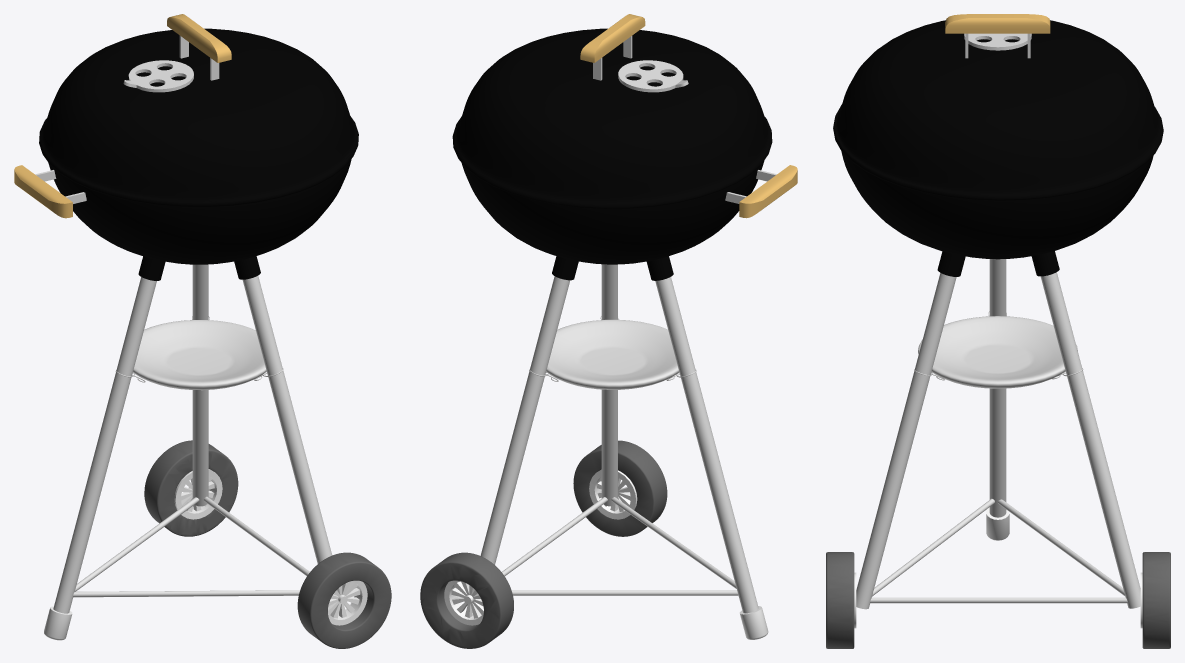
Rendered from charcoal_grill.glb.
The picture shows the model from 3 angles, left to right: view 1: azimuth 30°, elevation 25°; view 2: azimuth 150°, elevation 25°; view 3: azimuth 270°, elevation 25°; orthographic projection. The views are drawn at different scales.
Parts seen in each view (by area): view 1: grill_lid_bowl_grill_main_material_0, grill_side_handle2_grill_metal_material_0, grill_wheel1_grill_wheel_material_0, grill_ash_pan_grill_metal_material_0, grill_foot_cover_grill_plastic_material_0, grill_side_handle_grill_handle_material_0, grill_leg1_socket_grill_main_material_0; view 2: grill_lid_bowl_grill_main_material_0, grill_side_handle2_grill_metal_material_0, grill_wheel1_grill_wheel_material_0, grill_ash_pan_grill_metal_material_0, grill_foot_cover_grill_plastic_material_0, grill_side_handle_grill_handle_material_0, grill_leg1_socket_grill_main_material_0; view 3: grill_lid_bowl_grill_main_material_0, grill_side_handle2_grill_metal_material_0, grill_ash_pan_grill_metal_material_0, grill_wheel1_grill_wheel_material_0, grill_side_handle_grill_handle_material_0, grill_leg1_socket_grill_main_material_0, grill_foot_cover_grill_plastic_material_0.
Boxes of the visible parts, x1,y1,x2,y2 form: grill_lid_bowl_grill_main_material_0: (39,28,358,264); grill_side_handle2_grill_metal_material_0: (35,35,335,613); grill_wheel1_grill_wheel_material_0: (144,440,391,648); grill_ash_pan_grill_metal_material_0: (115,60,283,390); grill_foot_cover_grill_plastic_material_0: (44,469,367,640); grill_side_handle_grill_handle_material_0: (14,14,231,218); grill_leg1_socket_grill_main_material_0: (138,256,260,280); grill_lid_bowl_grill_main_material_0: (452,28,772,264); grill_side_handle2_grill_metal_material_0: (476,36,776,613); grill_wheel1_grill_wheel_material_0: (420,440,667,648); grill_ash_pan_grill_metal_material_0: (529,60,696,389); grill_foot_cover_grill_plastic_material_0: (444,469,768,639); grill_side_handle_grill_handle_material_0: (580,14,797,218); grill_leg1_socket_grill_main_material_0: (552,256,673,280); grill_lid_bowl_grill_main_material_0: (833,20,1163,259); grill_side_handle2_grill_metal_material_0: (856,33,1140,609); grill_ash_pan_grill_metal_material_0: (914,33,1083,388); grill_wheel1_grill_wheel_material_0: (826,552,1170,648); grill_side_handle_grill_handle_material_0: (945,14,1050,33); grill_leg1_socket_grill_main_material_0: (937,251,1059,276); grill_foot_cover_grill_plastic_material_0: (854,507,1142,628).
Size of the model in its own units: 12.86 by 23.28 by 12.25.
